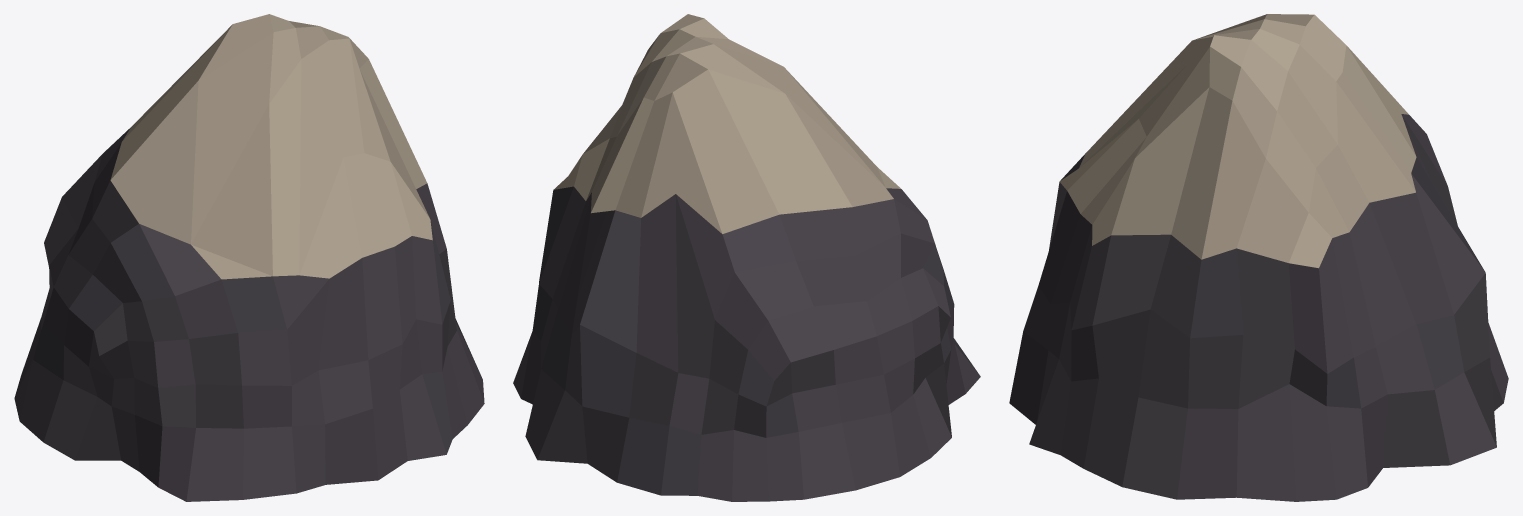
Rendered from GoraZeSniegiem_03.glb.
3 renders of one model, left to right at view 1: azimuth 30°, elevation 25°; view 2: azimuth 150°, elevation 25°; view 3: azimuth 270°, elevation 25°, orthographic. The views are drawn at different scales.
Visible parts, largest first — view 1: BigROCK.002; view 2: BigROCK.002; view 3: BigROCK.002.
Part boxes in pixels (x1=…): BigROCK.002: x1=14, y1=14, x2=484, y2=501; BigROCK.002: x1=513, y1=14, x2=980, y2=501; BigROCK.002: x1=1009, y1=14, x2=1508, y2=501.
Size of the model in its own units: 15.77 by 13.63 by 15.74.
1 material, 1 textured.
